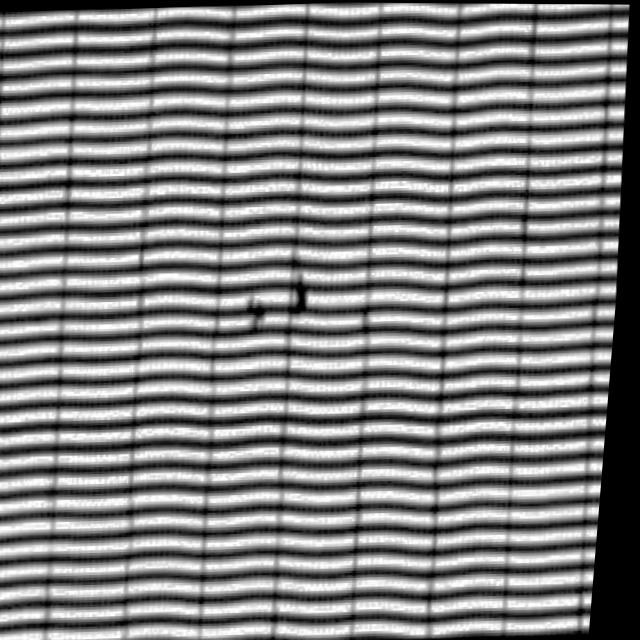Stitch: (228, 243, 327, 348)
